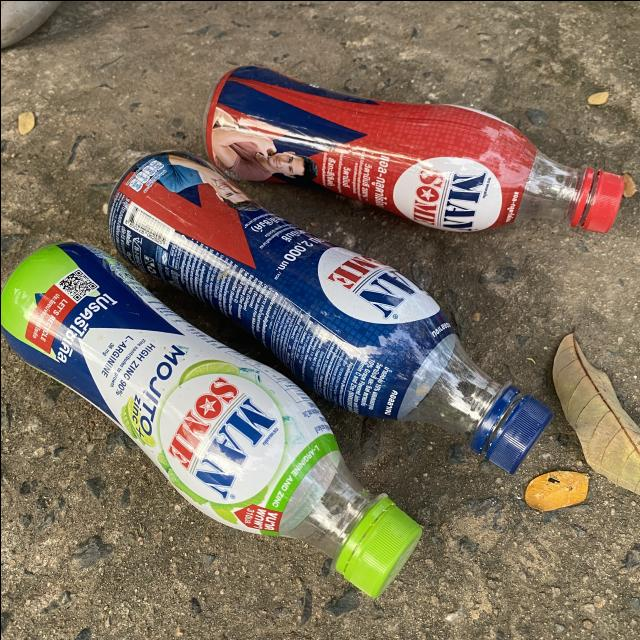plastik: (0, 241, 421, 596), (108, 151, 552, 472), (204, 65, 623, 232)
